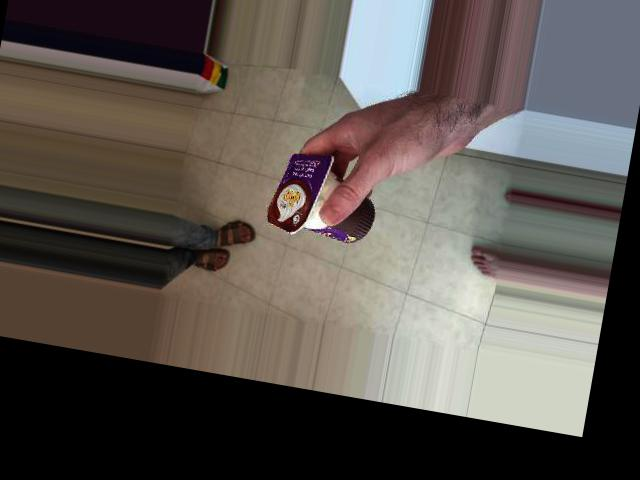milky: (269, 143, 391, 241)
